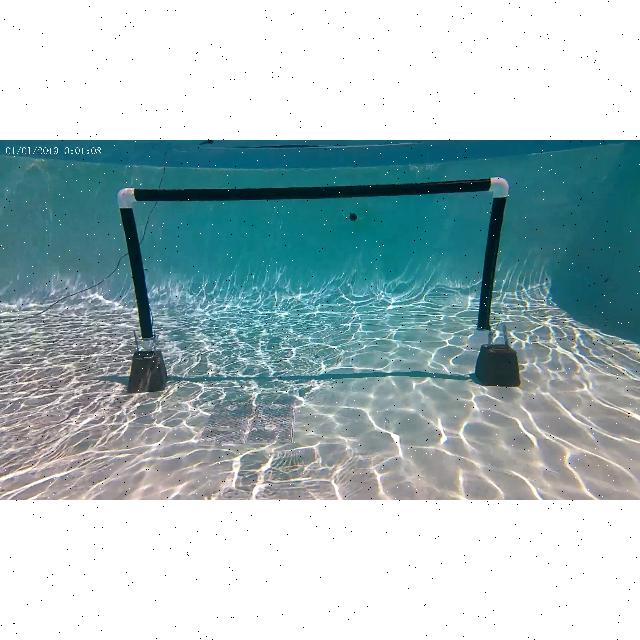prequal gate: (116, 176, 508, 342)
prequal gate leg l: (115, 184, 162, 342)
prequal gate leg r: (474, 177, 508, 335)
